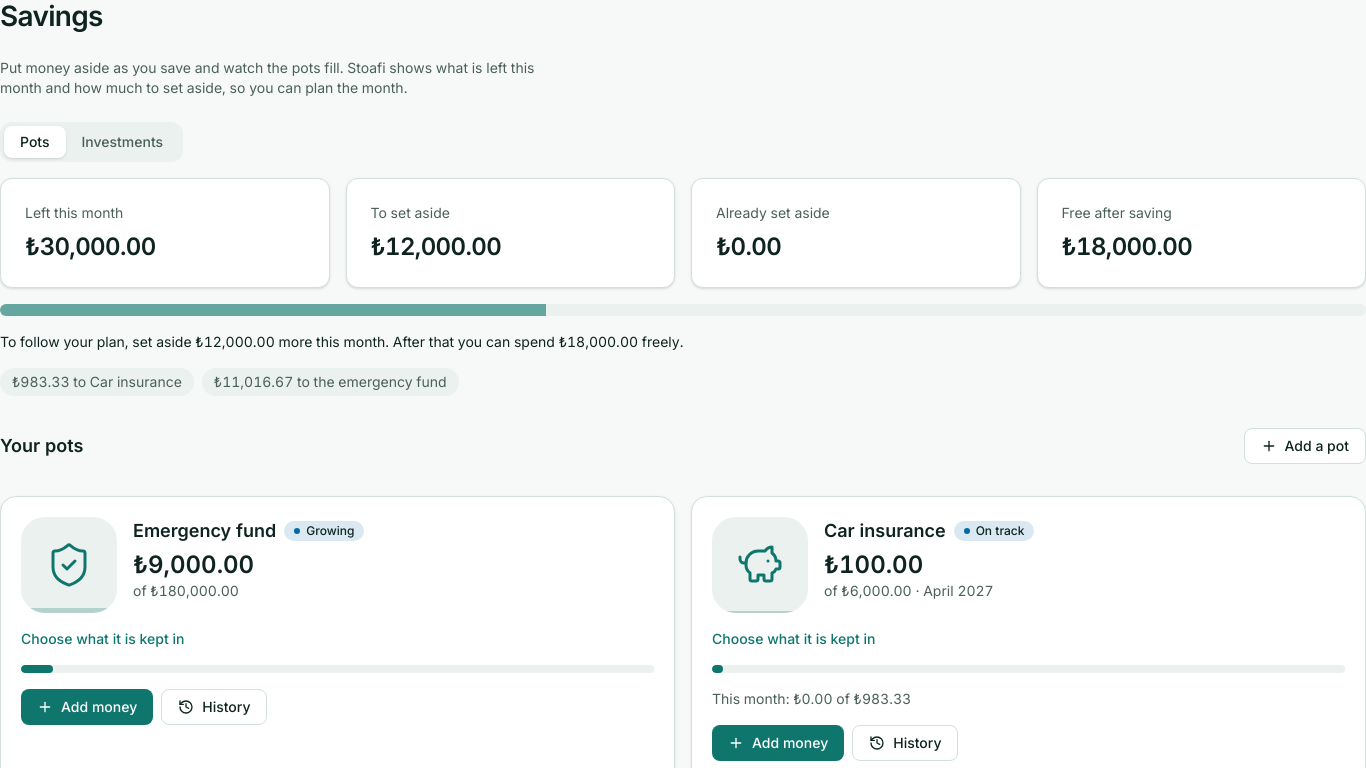
Savings screen › refuses to take out more than the pot holds
Click the button "Add money" below "On track".
click(778, 743)  # box left=712, top=725, right=844, bottom=761
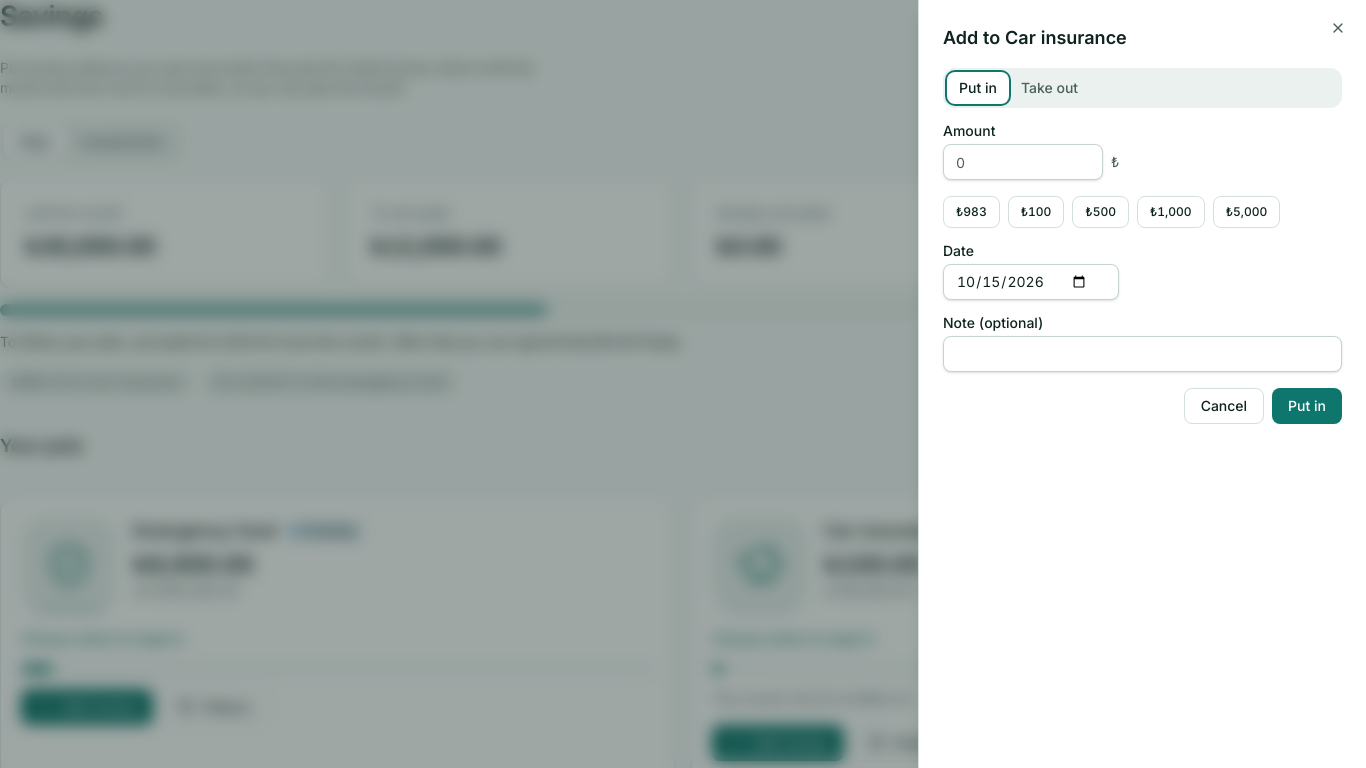
Click the radio button "Take out".
click(1050, 88)  # box left=1021, top=79, right=1078, bottom=96
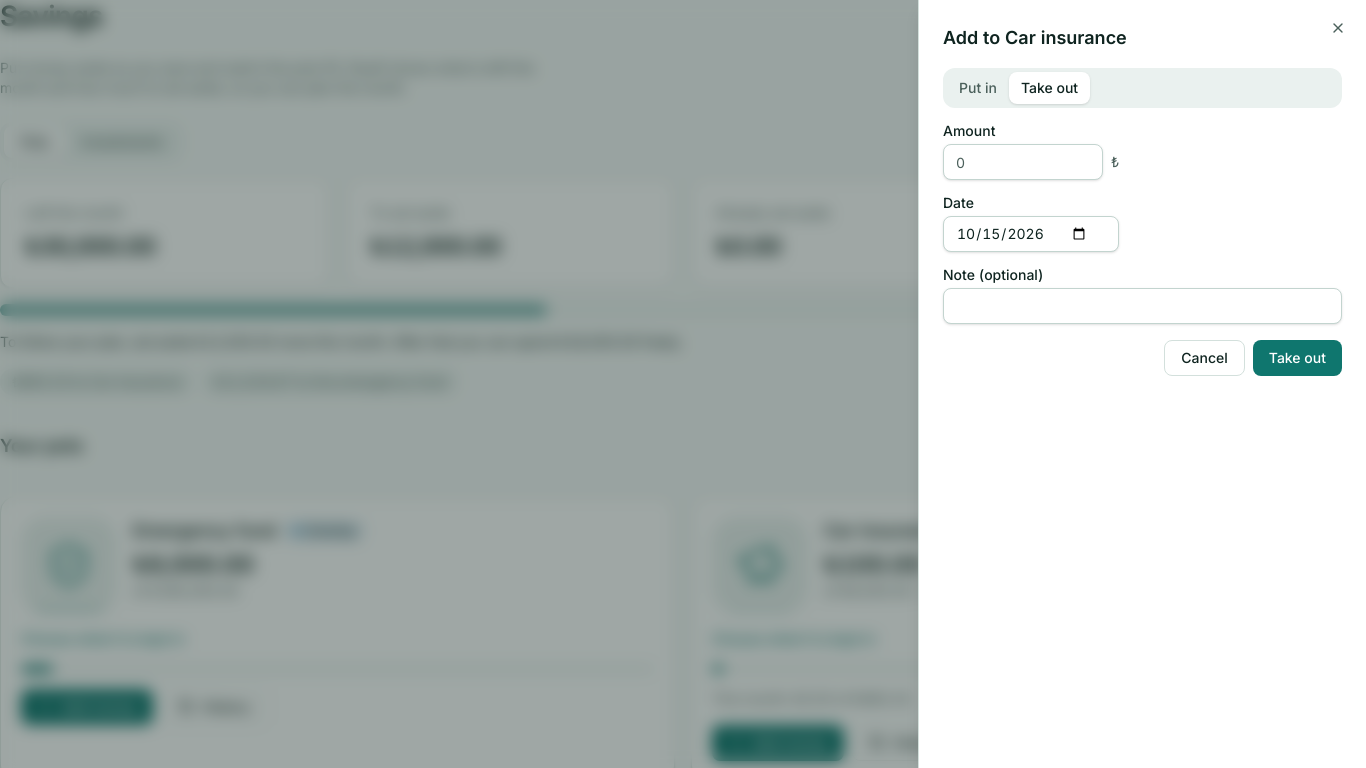
Type "500" into the field labelled "Amount".
click(1023, 162); type("500")  # box left=943, top=144, right=1103, bottom=180
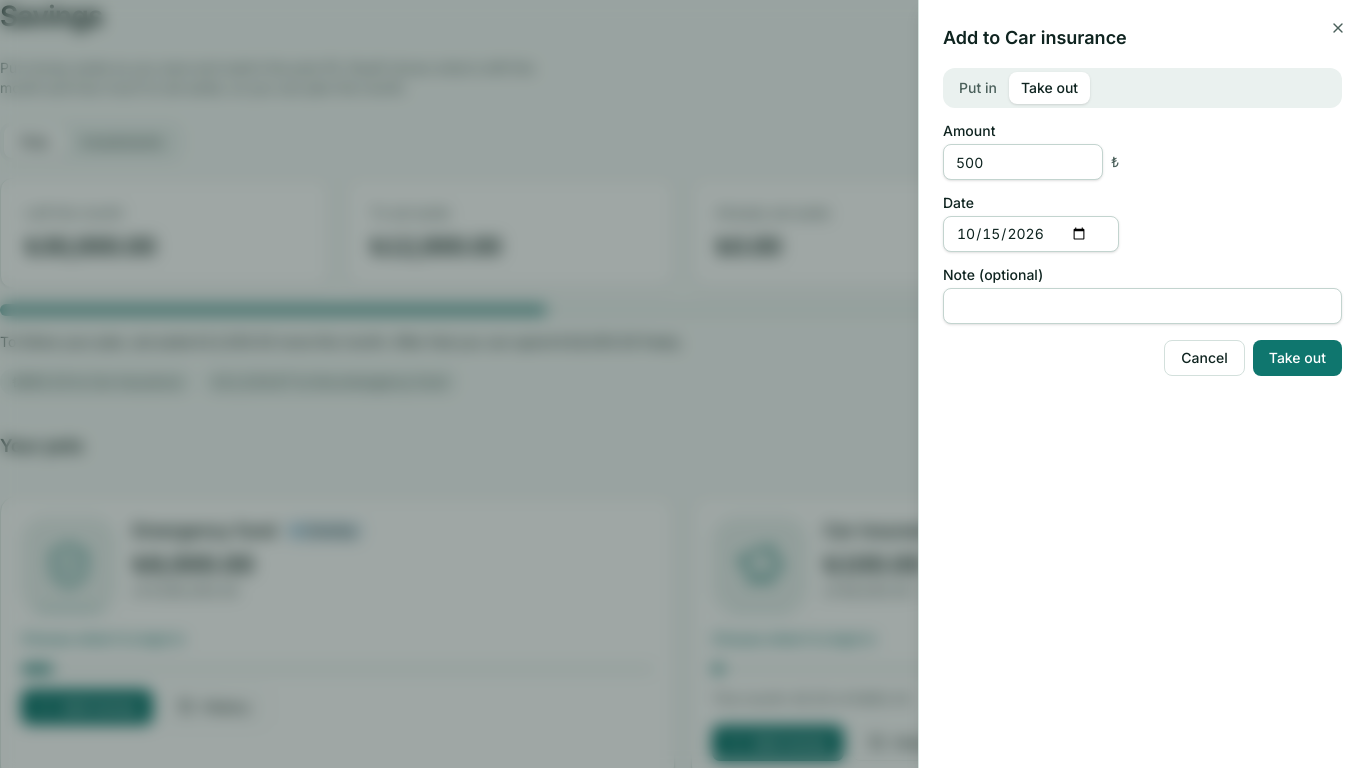
Click the button "Take out".
click(1297, 358)  # box left=1253, top=340, right=1342, bottom=376
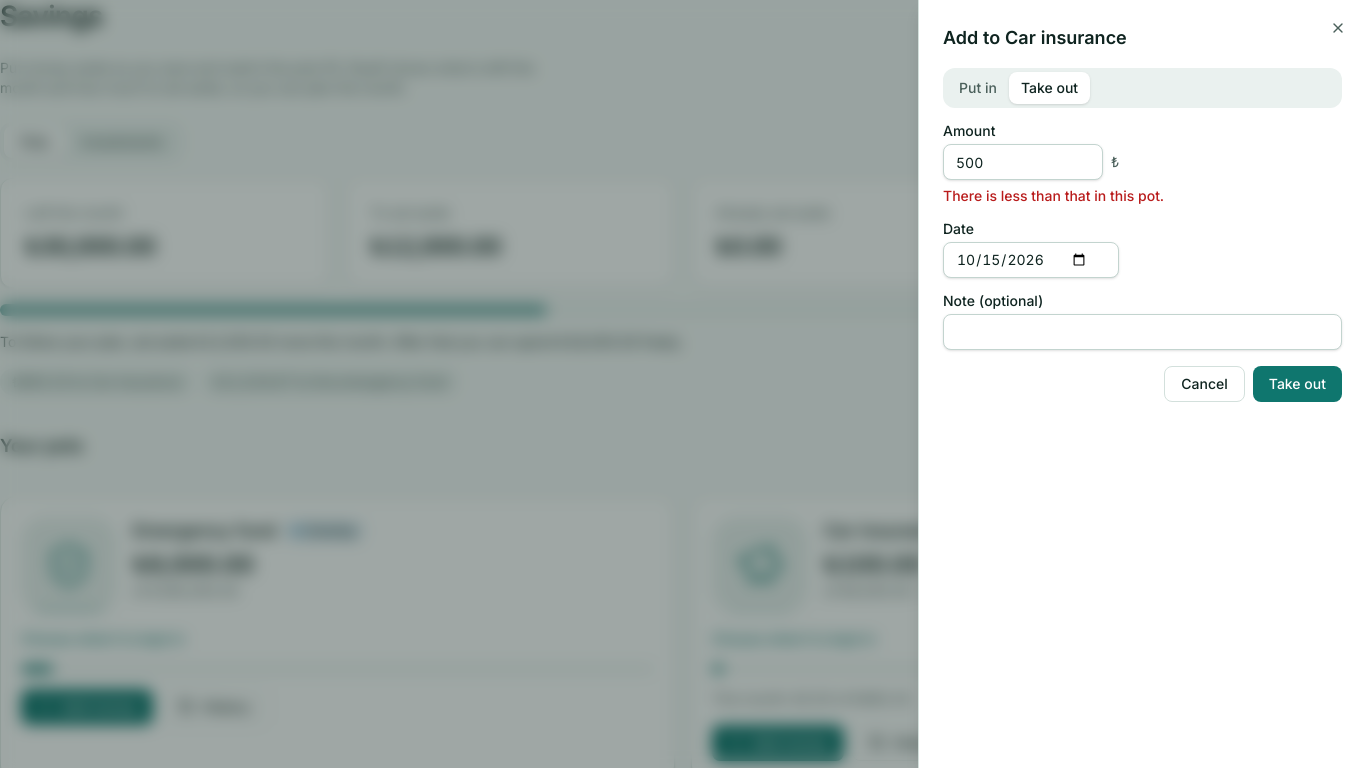
expect the text "There is less than that in this pot." is shown: met, box left=943, top=187, right=1164, bottom=204
